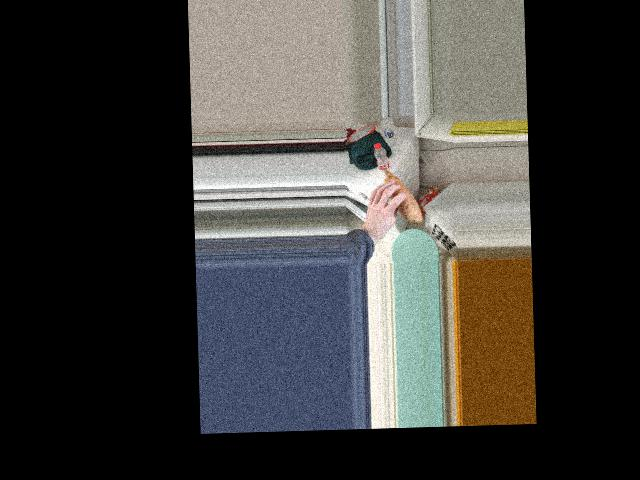sweet_potato: (377, 171, 421, 216)
